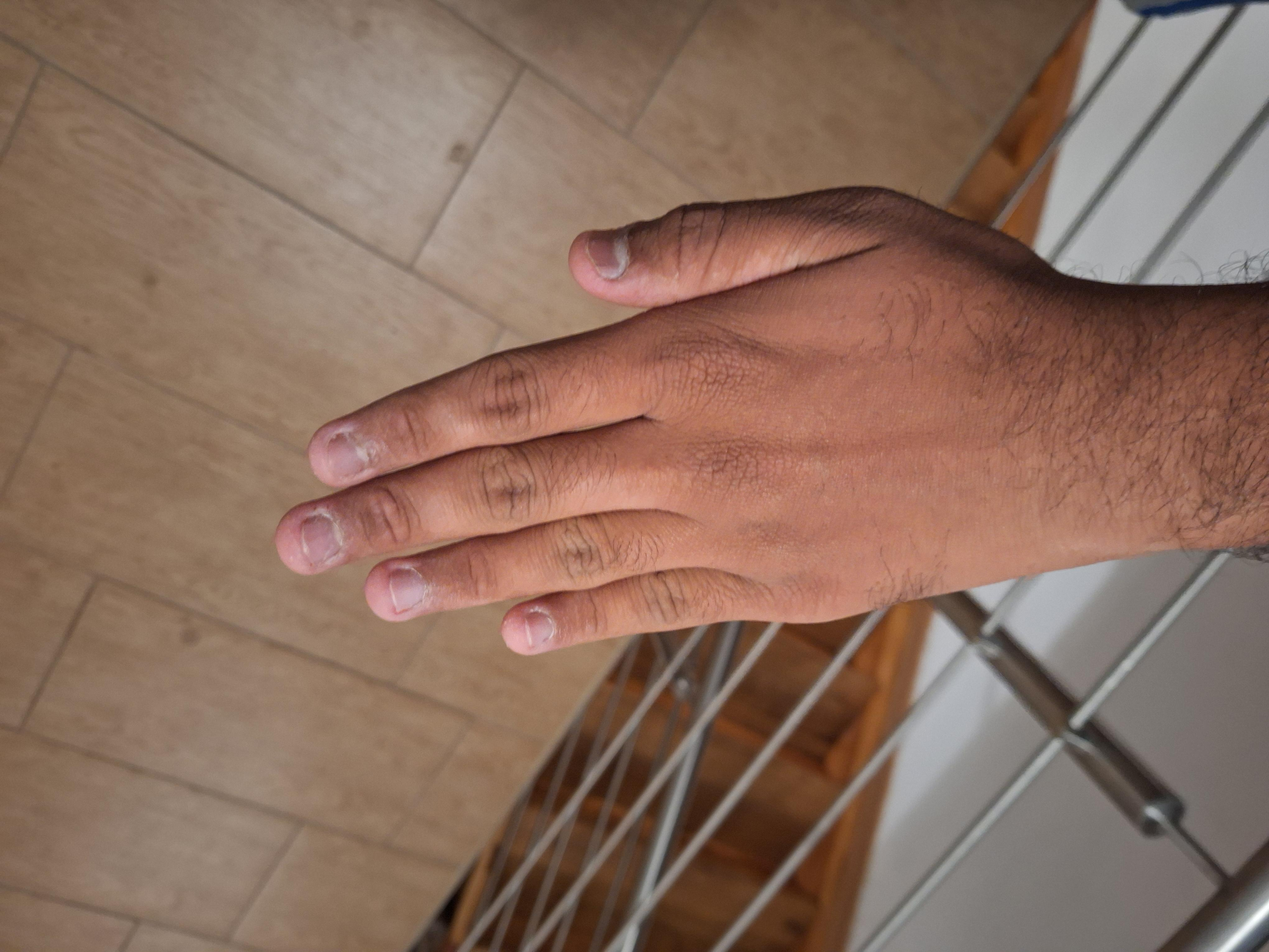Fingernail: (587, 229, 629, 281), (325, 432, 370, 479), (302, 515, 342, 566), (390, 567, 427, 614), (525, 611, 554, 648)
